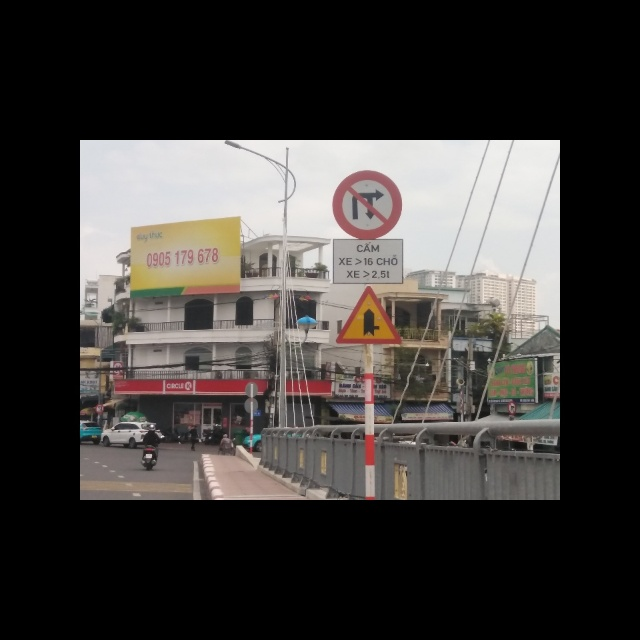Cấm quay đầu và rẽ phải: (331, 168, 403, 240)
Giao nhau với đường không ưu tiên: (334, 284, 403, 345)
